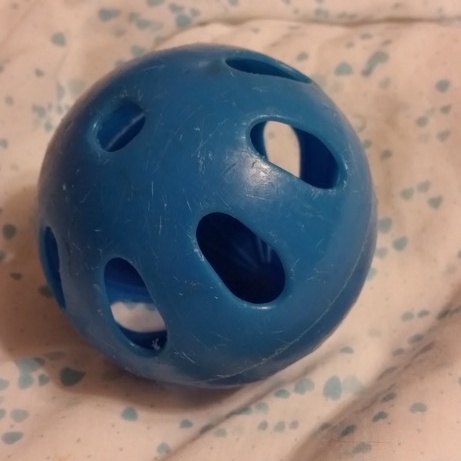blueball: (30, 38, 384, 397)
